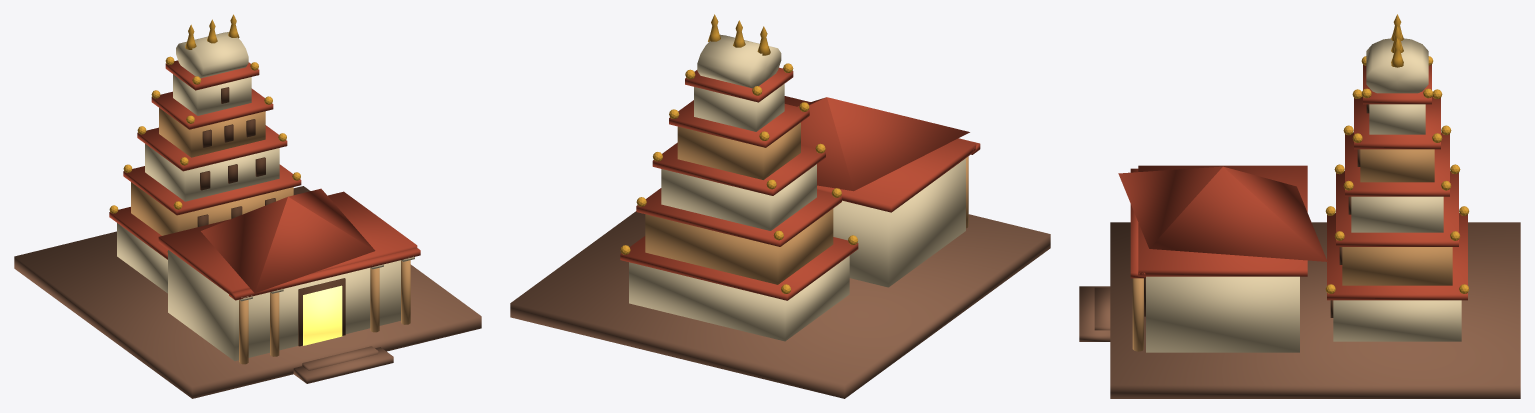
File: temple.glb
3 renders of one model, left to right at view 1: azimuth 30°, elevation 25°; view 2: azimuth 150°, elevation 25°; view 3: azimuth 270°, elevation 25°, orthographic. The views are drawn at different scales.
Parts seen in each view (by area): view 1: main__temple_red, main__temple_stone, main__temple_cream, main__temple_ochre, main__temple_dark, main__temple_glow, main__temple_gold_flat, main__temple_gold; view 2: main__temple_stone, main__temple_cream, main__temple_red, main__temple_ochre, main__temple_gold_flat, main__temple_gold; view 3: main__temple_stone, main__temple_red, main__temple_cream, main__temple_ochre, main__temple_gold_flat, main__temple_gold, main__temple_dark.
Boxes of the visible parts, x1,y1,x2,y2 form: main__temple_red: [109, 60, 420, 300]; main__temple_stone: [14, 186, 481, 398]; main__temple_cream: [117, 32, 414, 361]; main__temple_ochre: [131, 108, 410, 364]; main__temple_dark: [197, 87, 345, 346]; main__temple_glow: [303, 285, 342, 345]; main__temple_gold_flat: [109, 56, 300, 252]; main__temple_gold: [185, 14, 239, 49]; main__temple_stone: [510, 211, 1050, 398]; main__temple_cream: [629, 34, 965, 341]; main__temple_red: [620, 67, 980, 300]; main__temple_ochre: [645, 122, 968, 284]; main__temple_gold_flat: [620, 63, 857, 293]; main__temple_gold: [708, 14, 770, 55]; main__temple_stone: [1079, 222, 1520, 398]; main__temple_red: [1118, 64, 1467, 300]; main__temple_cream: [1146, 38, 1461, 352]; main__temple_ochre: [1132, 149, 1452, 351]; main__temple_gold_flat: [1325, 56, 1469, 293]; main__temple_gold: [1391, 14, 1403, 67]; main__temple_dark: [1144, 104, 1369, 317].
Bounding box in the file's own units: 15 × 12.55 × 17.2.
